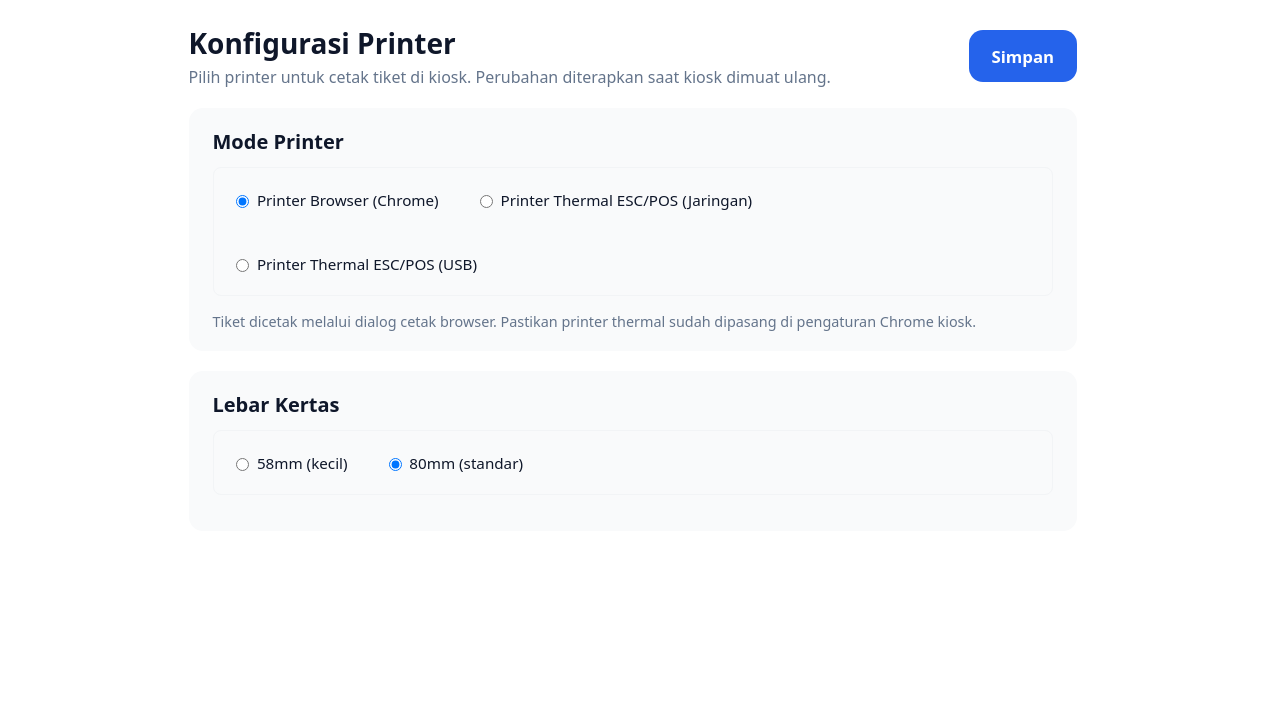
Scenario: PrinterConfigPage › switching back to chrome hides the network fields and is always valid
expect the radio button with test id "printer-mode--chrome" is shown: met, box [236, 195, 249, 208]
Step 1. Click the radio button with test id "printer-mode--network-escpos" → coordinates (486, 201), box [480, 195, 493, 208]
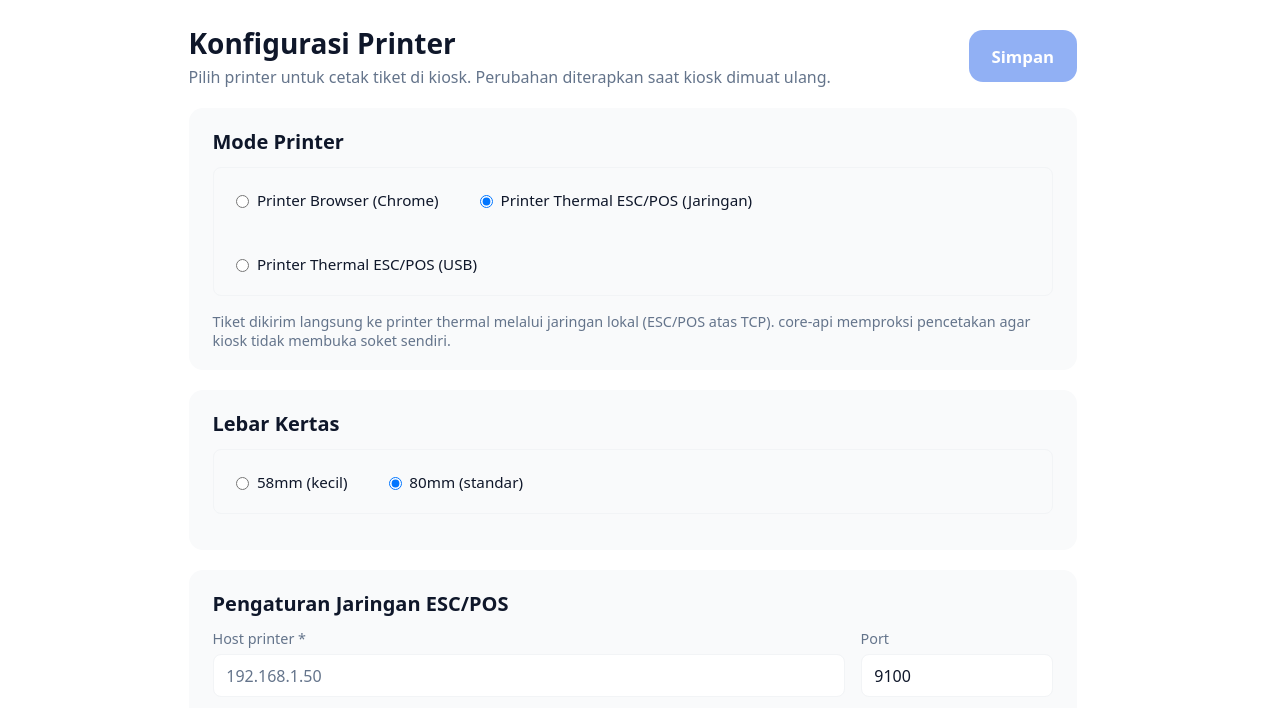
# Switch back to chrome — the network section unmounts.
Step 2. Click the radio button with test id "printer-mode--chrome" → coordinates (243, 201), box [236, 195, 249, 208]
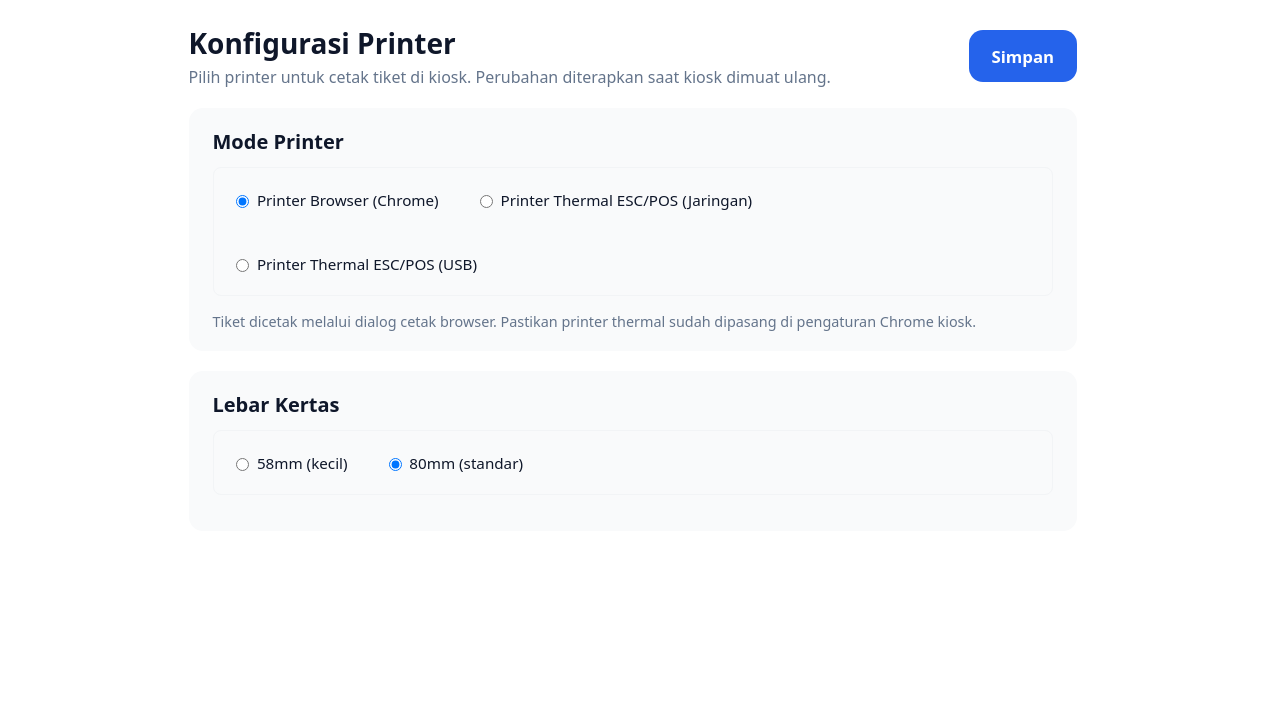
expect the button with test id "printer-save" is enabled: met, box [969, 30, 1076, 82]
